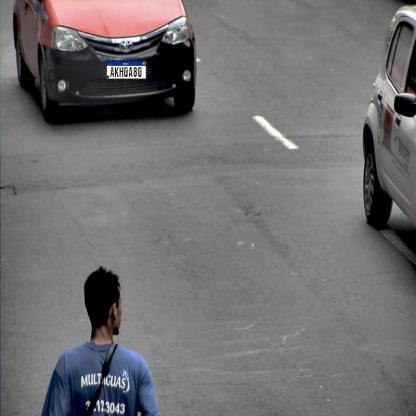PlacaM: (106, 60, 147, 80)
